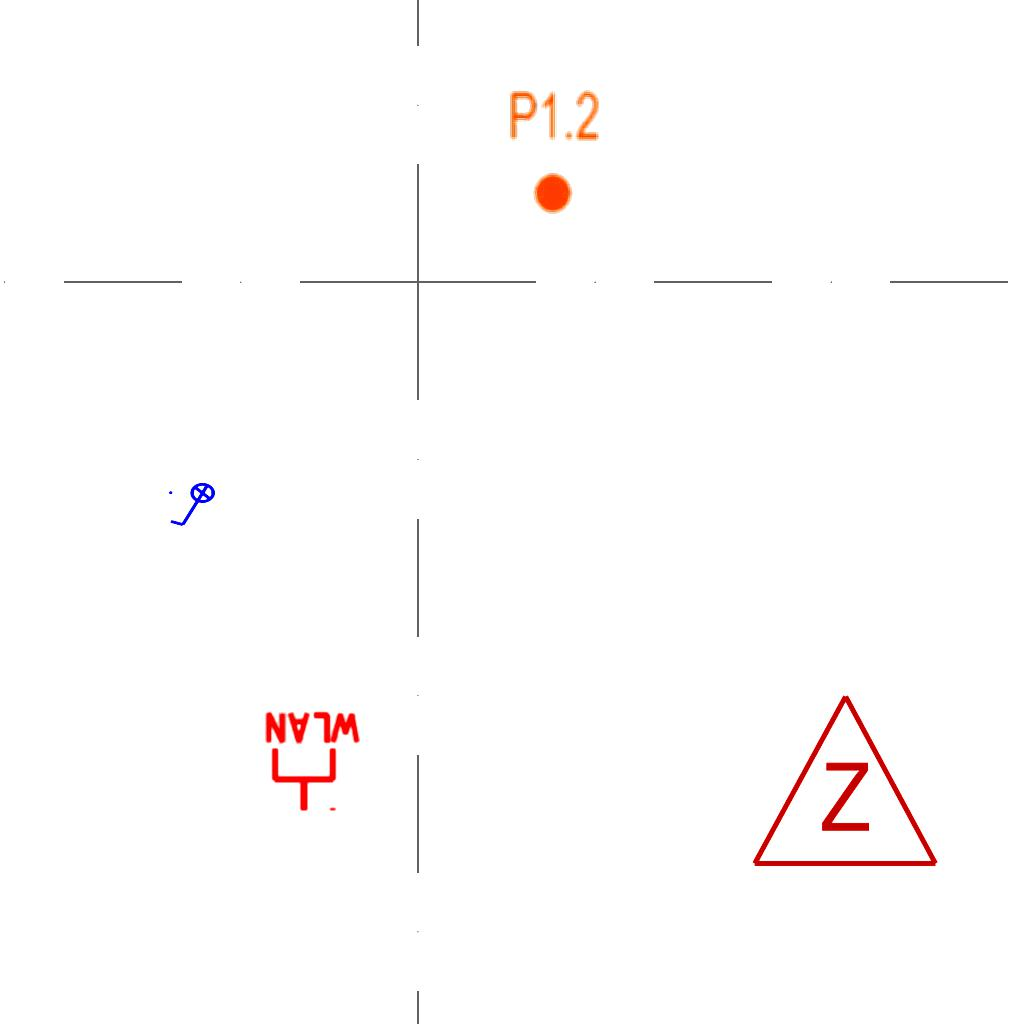Ausschalter_beleuchtet: (166, 482, 222, 530)
Downlight_LED_Einbauleuchten_Flur: (508, 88, 601, 216)
WLAN: (261, 710, 365, 815)
Zimmersignalleuchte: (745, 681, 941, 881)
